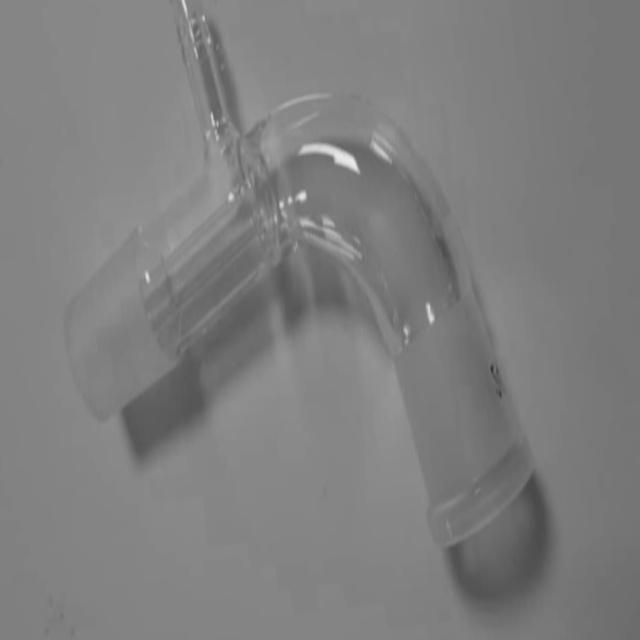Angled Extension for Vacuum Distillation: (24, 0, 568, 606)
